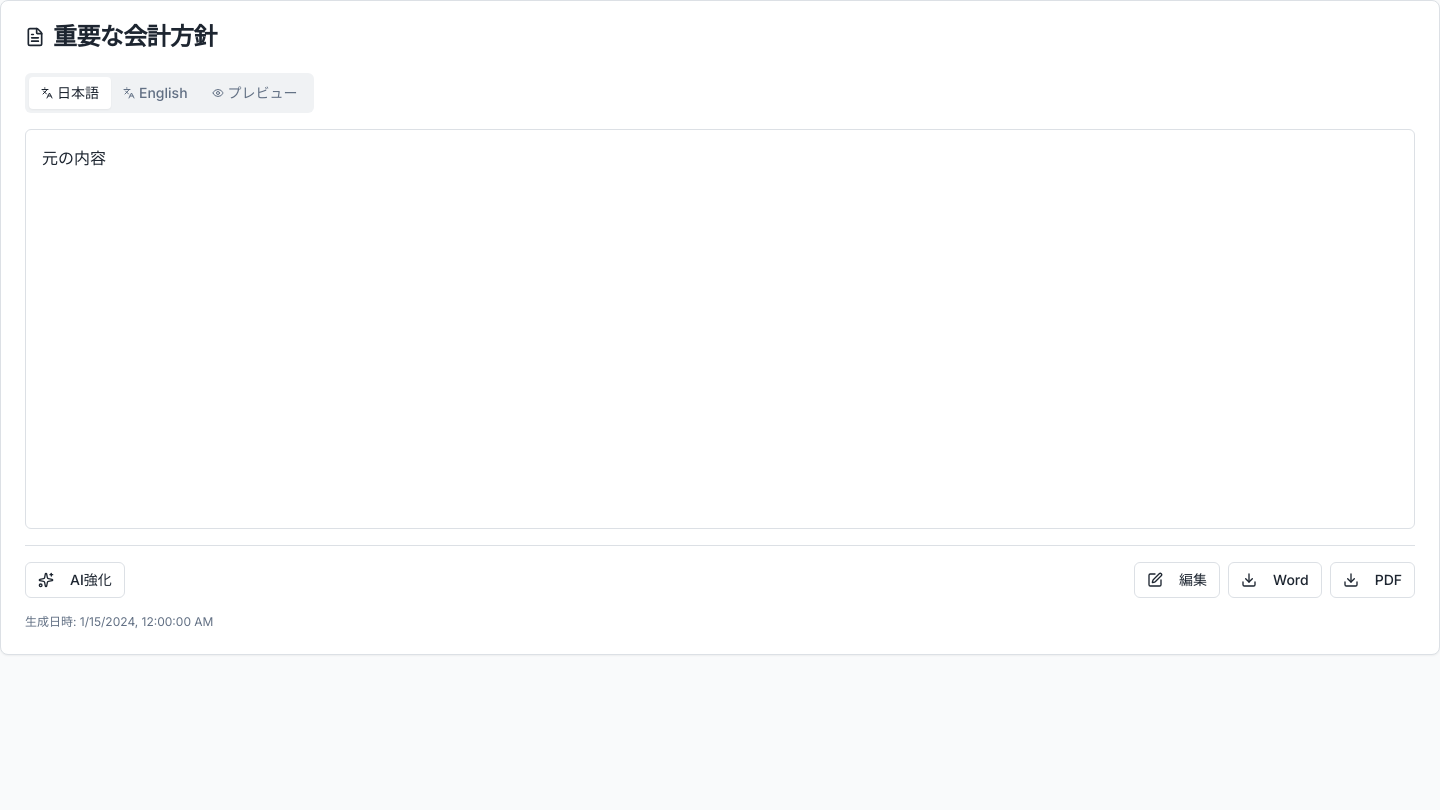
Test: DisclosureEditor — editing flow › enters edit mode showing a textarea and the save/cancel actions
The width and height of the screenshot is (1440, 810).
Click the button "編集".
click(1177, 580)  # box [1134, 562, 1220, 598]
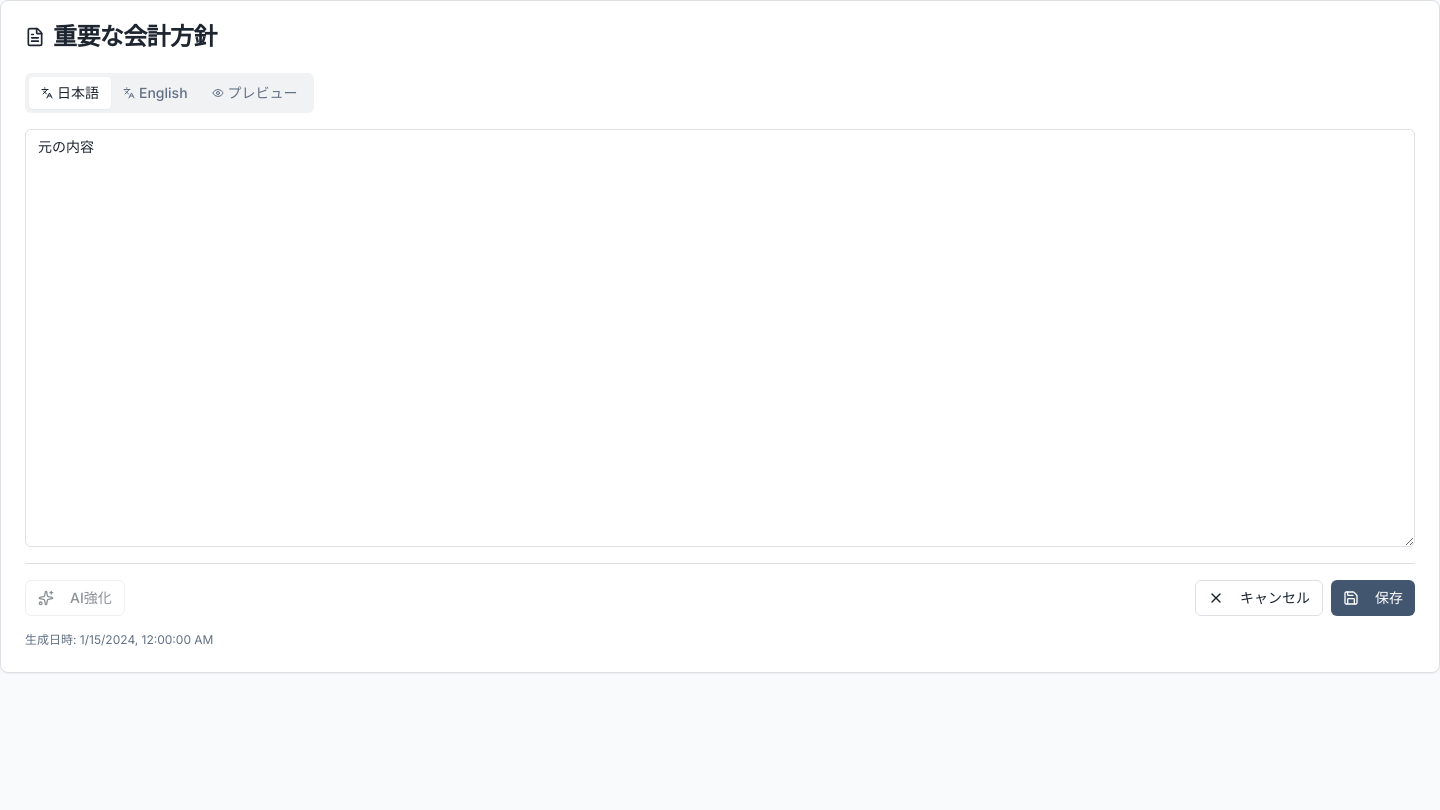
Expected: the text box holds "元の内容", [25, 129, 1415, 547]
Expected: the button "保存" is shown, [1331, 580, 1415, 616]
Expected: the button "キャンセル" is shown, [1195, 580, 1323, 616]
